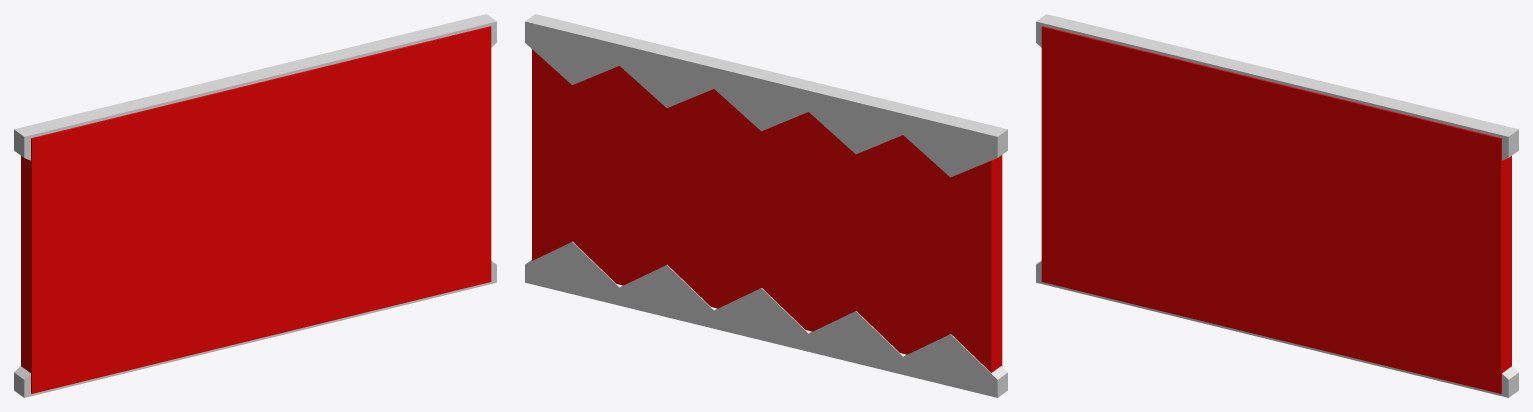
Rendered from DokoMouth.fbx.
The picture shows the model from 3 angles, left to right: view 1: azimuth 30°, elevation 25°; view 2: azimuth 150°, elevation 25°; view 3: azimuth 330°, elevation 25°; orthographic projection.
Parts seen in each view (by area): view 1: Plane.009; view 2: Plane.009; view 3: Plane.009.
Part boxes in pixels (x1,y1,x2,y2): Plane.009: (14, 14, 496, 397); Plane.009: (525, 14, 1007, 397); Plane.009: (1036, 14, 1518, 397).
Size of the model in its own units: 57.01 by 30.1 by 2.34.
